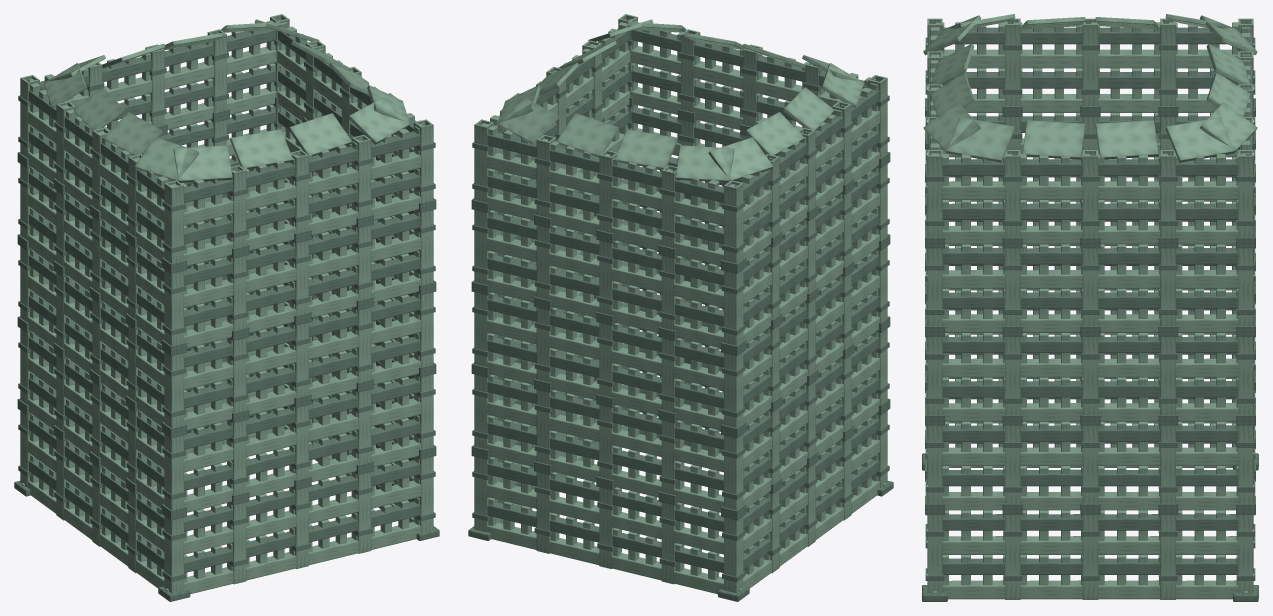
3 views of the same model, side by side, from view 1: azimuth 30°, elevation 25°; view 2: azimuth 150°, elevation 25°; view 3: azimuth 270°, elevation 25° (orthographic). The views are drawn at different scales.
Visible parts, largest first — view 1: Crown alloy petal 0-1, Crown alloy petal 0-0, Crown alloy petal 0-2, Crown alloy petal 3-3, Crown alloy petal 3-2, Crown alloy petal 0-3, Tier 4 side 0 post 0, Tier 0 side 0 post 0, Tier 1 side 0 post 0, Tier 2 side 0 post 0, Tier 3 side 0 post 0, Crown alloy petal 3-1 (+137 smaller); view 2: Crown alloy petal 2-2, Crown alloy petal 2-3, Crown alloy petal 2-1, Crown alloy petal 3-0, Crown alloy petal 3-1, Crown alloy petal 2-0, Tier 4 side 3 post 0, Tier 0 side 3 post 0, Tier 1 side 3 post 0, Tier 2 side 3 post 0, Tier 3 side 3 post 0, Crown alloy petal 3-2 (+137 smaller); view 3: Crown alloy petal 1-1, Crown alloy petal 1-2, Crown alloy petal 1-3, Crown alloy petal 1-0, Tier 4 side 1 post 2, Tier 0 side 1 post 2, Tier 4 side 3 post 2, Crown alloy petal 0-3, Crown alloy petal 2-0, Tier 4 side 1 post 1, Tier 4 side 1 post 3, Tier 4 side 1 post 0 (+126 smaller).
Boxes of the visible parts, x1,y1,x2,y2 form: Crown alloy petal 0-1: (230,129,293,169); Crown alloy petal 0-0: (173,145,232,182); Crown alloy petal 0-2: (288,113,351,156); Crown alloy petal 3-3: (134,137,199,180); Crown alloy petal 3-2: (103,112,162,155); Crown alloy petal 0-3: (348,97,409,144); Tier 4 side 0 post 0: (164,180,183,263); Tier 0 side 0 post 0: (164,516,183,593); Tier 1 side 0 post 0: (164,434,183,510); Tier 2 side 0 post 0: (164,351,183,427); Tier 3 side 0 post 0: (164,269,183,345); Crown alloy petal 3-1: (73,87,124,130); Crown alloy petal 2-2: (615,129,677,169); Crown alloy petal 2-3: (675,145,734,182); Crown alloy petal 2-1: (556,113,619,157); Crown alloy petal 3-0: (708,137,773,180); Crown alloy petal 3-1: (745,112,804,155); Crown alloy petal 2-0: (498,97,559,144); Tier 4 side 3 post 0: (724,180,743,263); Tier 0 side 3 post 0: (724,516,743,593); Tier 1 side 3 post 0: (724,434,743,510); Tier 2 side 3 post 0: (724,352,743,427); Tier 3 side 3 post 0: (724,270,743,345); Crown alloy petal 3-2: (783,87,834,130); Crown alloy petal 1-1: (1022,120,1085,159); Crown alloy petal 1-2: (1095,120,1158,159); Crown alloy petal 1-3: (1165,117,1234,162); Crown alloy petal 1-0: (946,117,1015,162); Tier 4 side 1 post 2: (1082,150,1098,237); Tier 0 side 1 post 2: (1082,514,1098,599); Tier 4 side 3 post 2: (1082,18,1098,105); Crown alloy petal 0-3: (923,102,980,152); Crown alloy petal 2-0: (1200,102,1257,152); Tier 4 side 1 post 1: (1005,150,1020,237); Tier 4 side 1 post 3: (1160,150,1175,237); Tier 4 side 1 post 0: (927,150,942,237).
Bounding box in the file's own units: 1.95 × 2.94 × 1.95.
2 materials, 2 textured.
